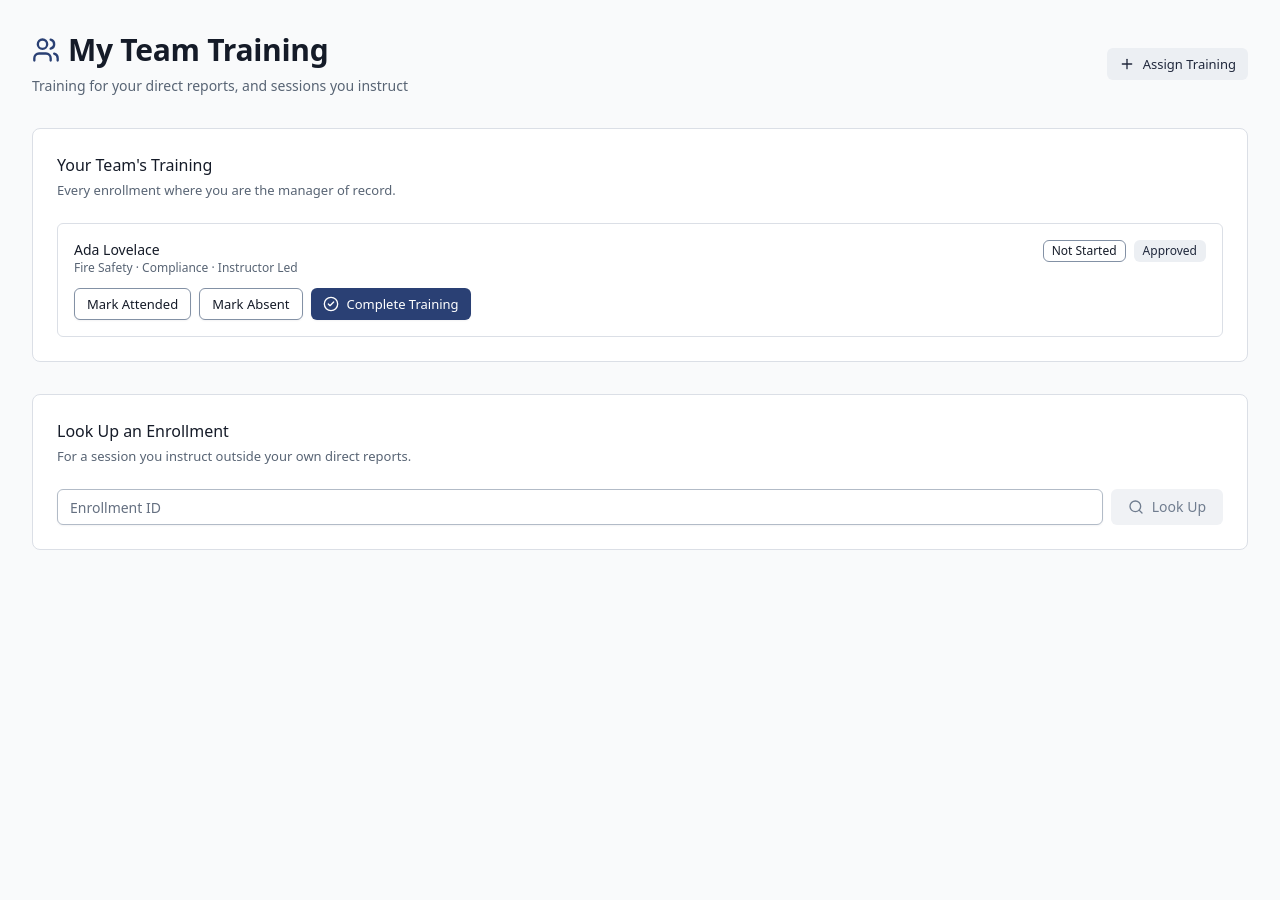
it: My Team Training page (W89) › marks attendance through the real route
The image size is (1280, 900).
Click the button with test id "button-mark-attended-10" at (133, 304), box x1=74 y1=288 x2=191 y2=320
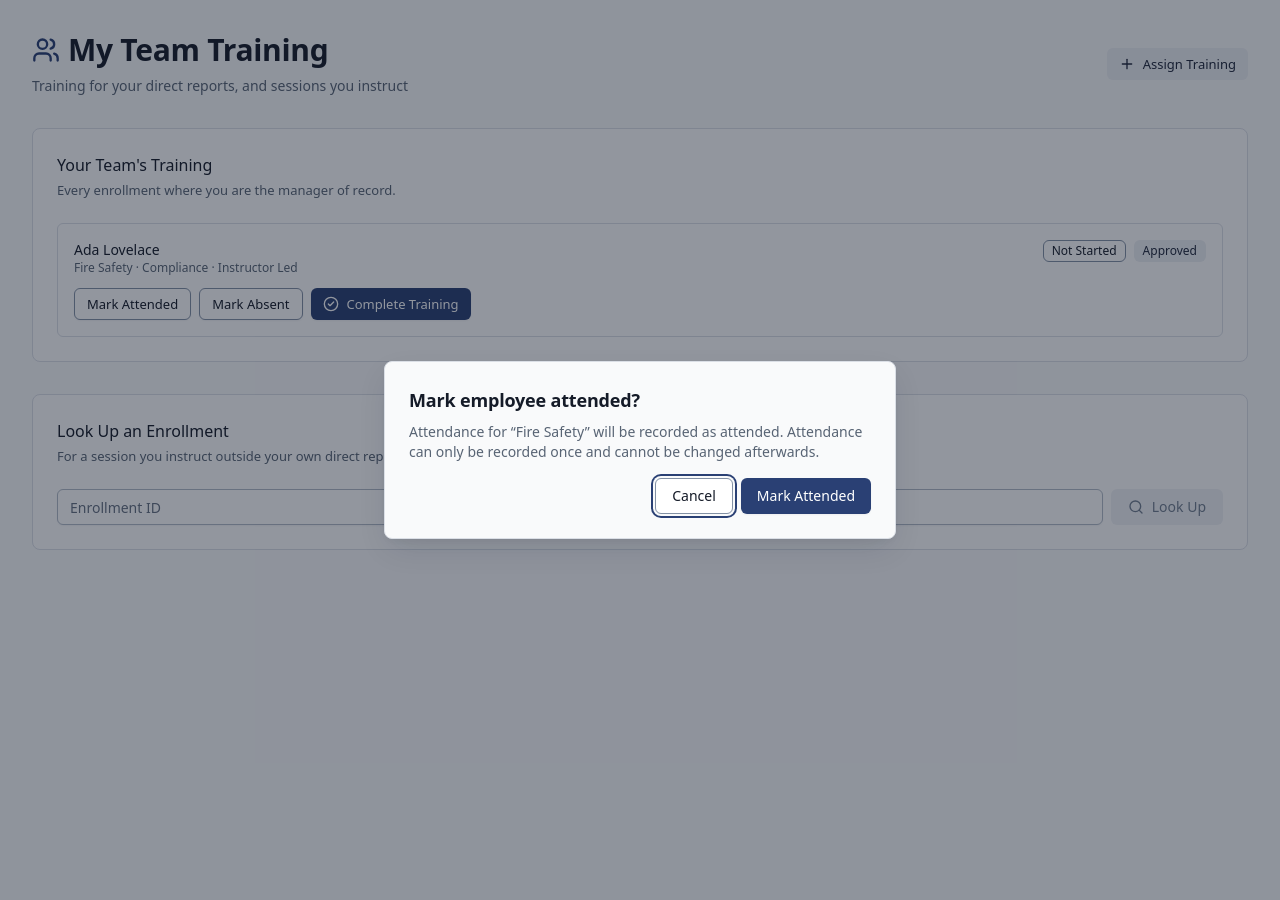
Result: the dialog with test id "dialog-attendance-10" shows "Mark employee attended?" at x1=409 y1=388 x2=640 y2=412
Click the button with test id "dialog-attendance-10-confirm" at (806, 496), box x1=741 y1=478 x2=871 y2=514
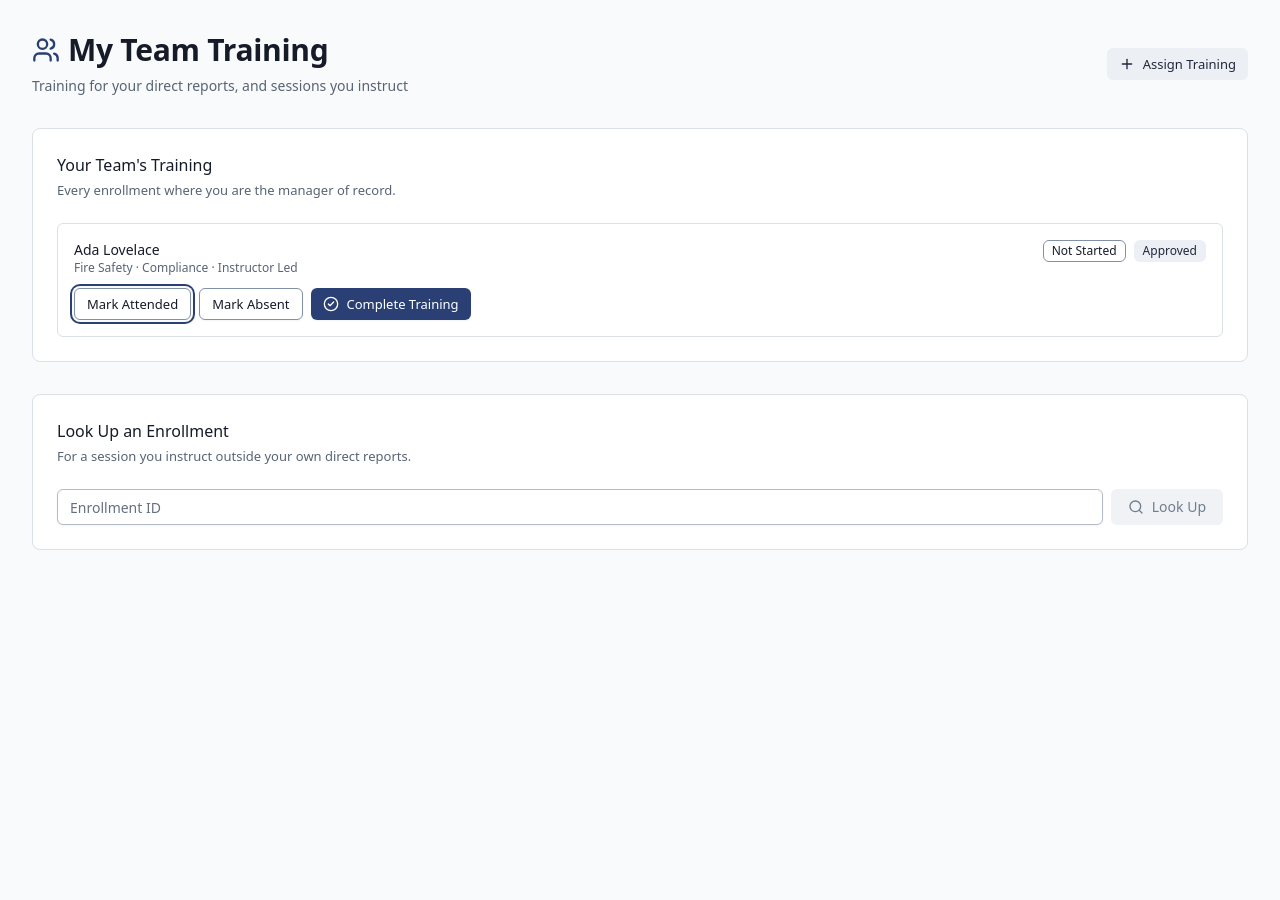
Result: the dialog with test id "dialog-attendance-10" is gone
